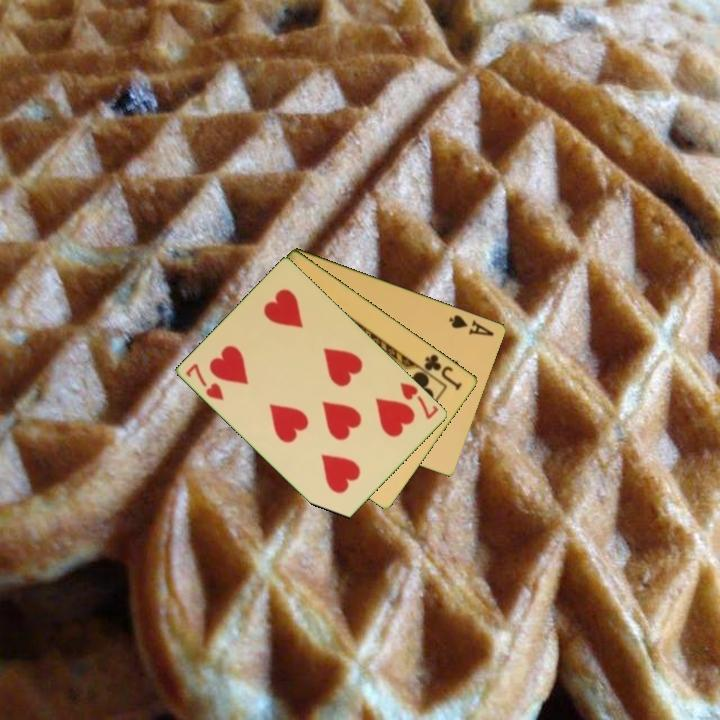7h: (182, 360, 228, 404), (397, 379, 442, 422)
As: (446, 311, 497, 339)
Jc: (421, 350, 465, 393)
